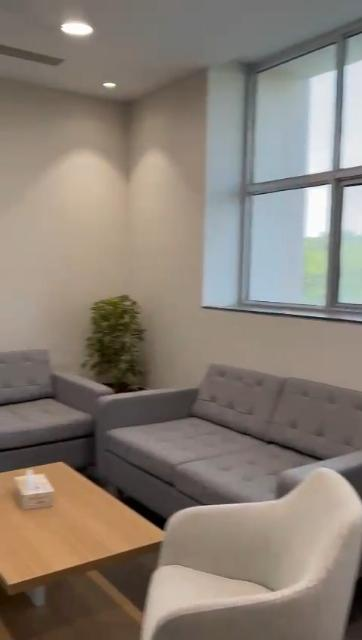object: (100, 384, 362, 504), (154, 504, 362, 640), (4, 457, 154, 635), (0, 349, 105, 456), (85, 278, 157, 394)
wall: (0, 100, 208, 300), (159, 316, 361, 372), (7, 308, 91, 346)
